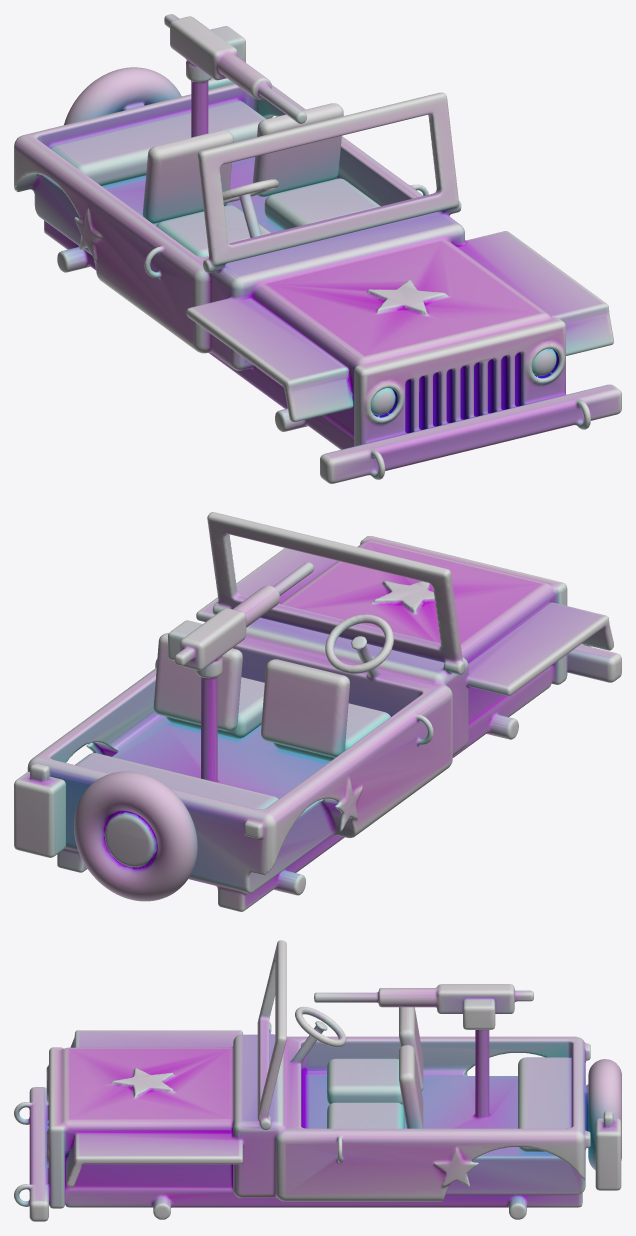
File: jeep.glb
The picture shows the model from 3 angles, top to bottom: view 1: azimuth 30°, elevation 25°; view 2: azimuth 150°, elevation 25°; view 3: azimuth 270°, elevation 25°; orthographic projection. The views are drawn at different scales.
Parts seen in each view (by area): view 1: jeep; view 2: jeep; view 3: jeep.
Part boxes in pixels (<box>): jeep: <box>14,14,621,483</box>; jeep: <box>14,512,621,911</box>; jeep: <box>14,940,621,1221</box>.
Size of the model in its own units: 0.9409 by 0.6746 by 1.88.
